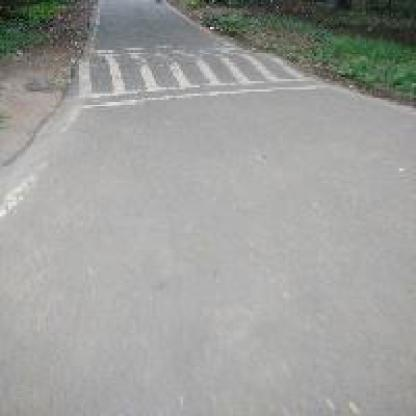Speed Bump: (79, 44, 318, 108)
